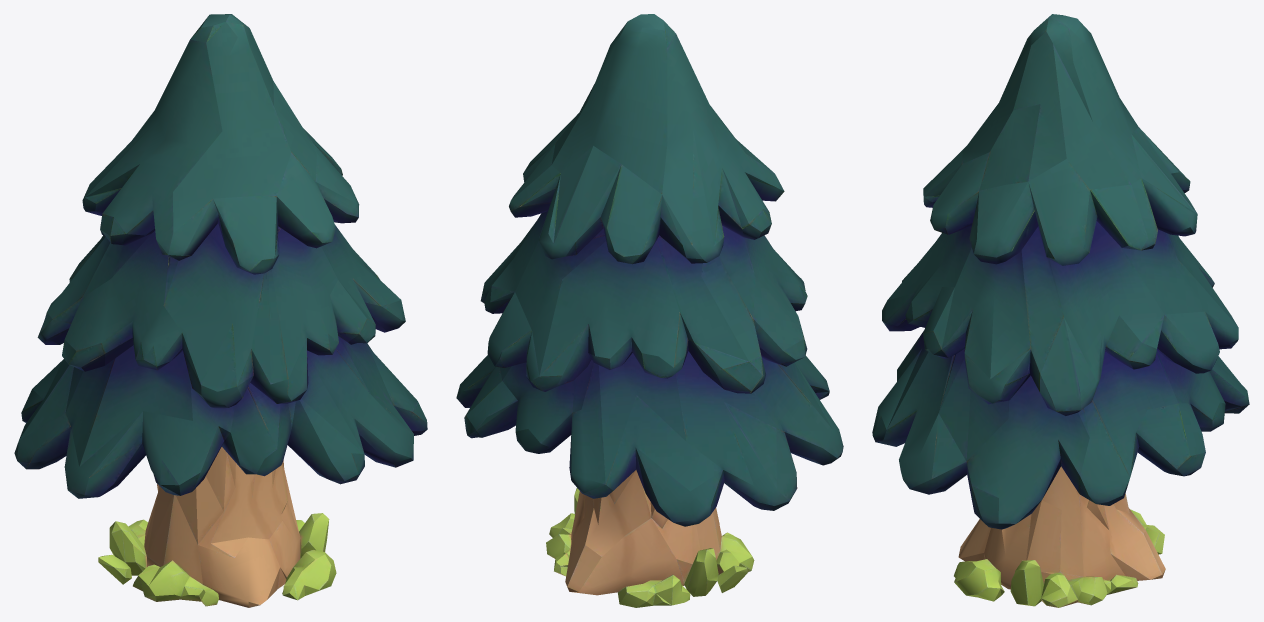
File: spooky_pine.glb
The picture shows the model from 3 angles, left to right: view 1: azimuth 30°, elevation 25°; view 2: azimuth 150°, elevation 25°; view 3: azimuth 270°, elevation 25°; orthographic projection.
Bounding box in the file's own units: 1.26 × 1.9 × 1.18.
Materials: 1 (1 with a texture image).
